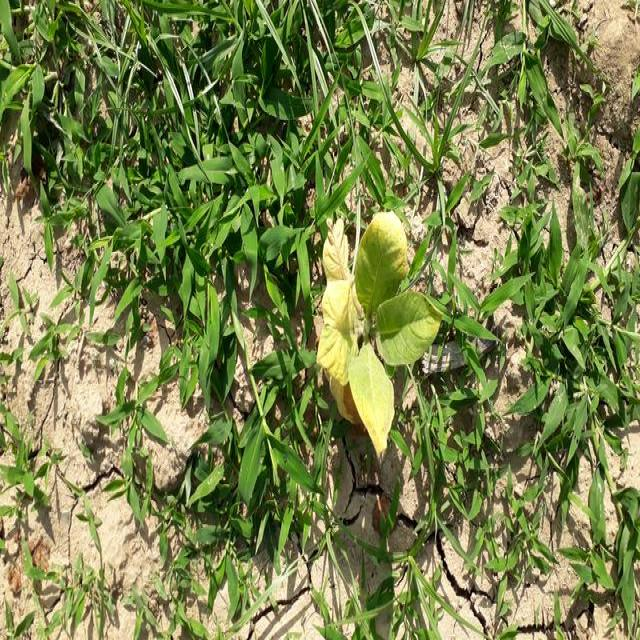crop: (314, 207, 442, 466)
